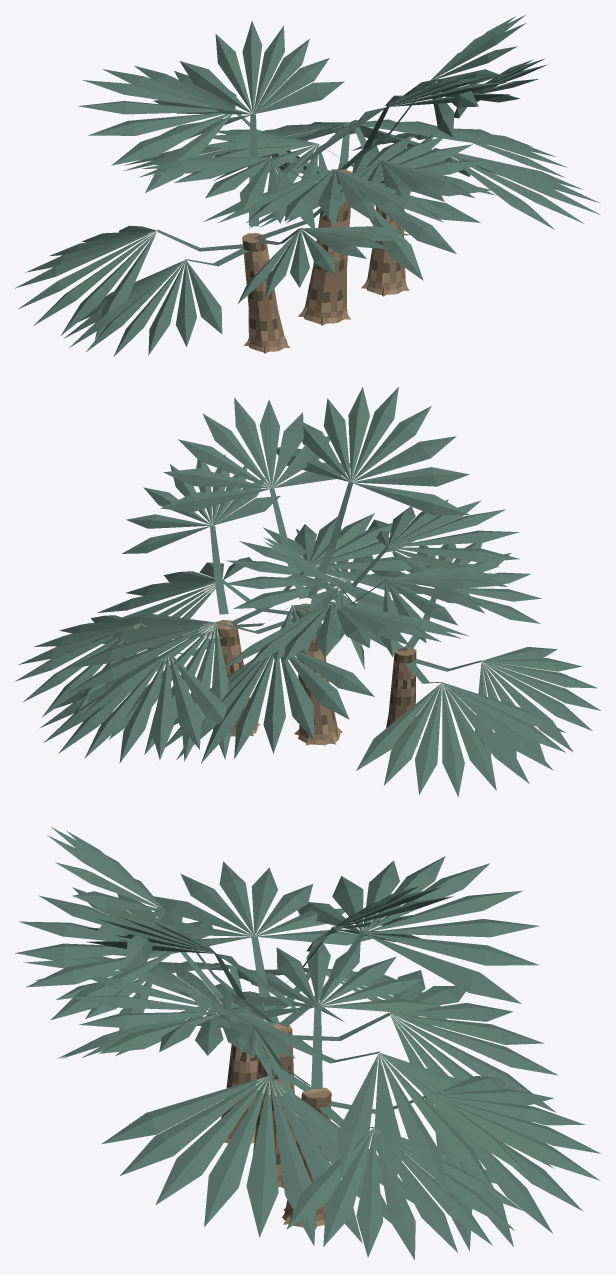
File: saw-palmetto.glb
3 views of the same model, one above another, from view 1: azimuth 30°, elevation 25°; view 2: azimuth 150°, elevation 25°; view 3: azimuth 270°, elevation 25° (orthographic). The views are drawn at different scales.
Visible parts, largest first — view 1: crown_saw-palmetto, trunk_saw-palmetto; view 2: crown_saw-palmetto, trunk_saw-palmetto; view 3: crown_saw-palmetto, trunk_saw-palmetto.
Part boxes in pixels (x1=…): crown_saw-palmetto: x1=15, y1=15, x2=600, y2=356; trunk_saw-palmetto: x1=242, y1=169, x2=409, y2=353; crown_saw-palmetto: x1=15, y1=387, x2=600, y2=796; trunk_saw-palmetto: x1=214, y1=603, x2=420, y2=749; crown_saw-palmetto: x1=15, y1=827, x2=601, y2=1259; trunk_saw-palmetto: x1=221, y1=1022, x2=331, y2=1229.
Size of the model in its own units: 4.63 by 2.47 by 3.78.
2 materials, 2 textured.
